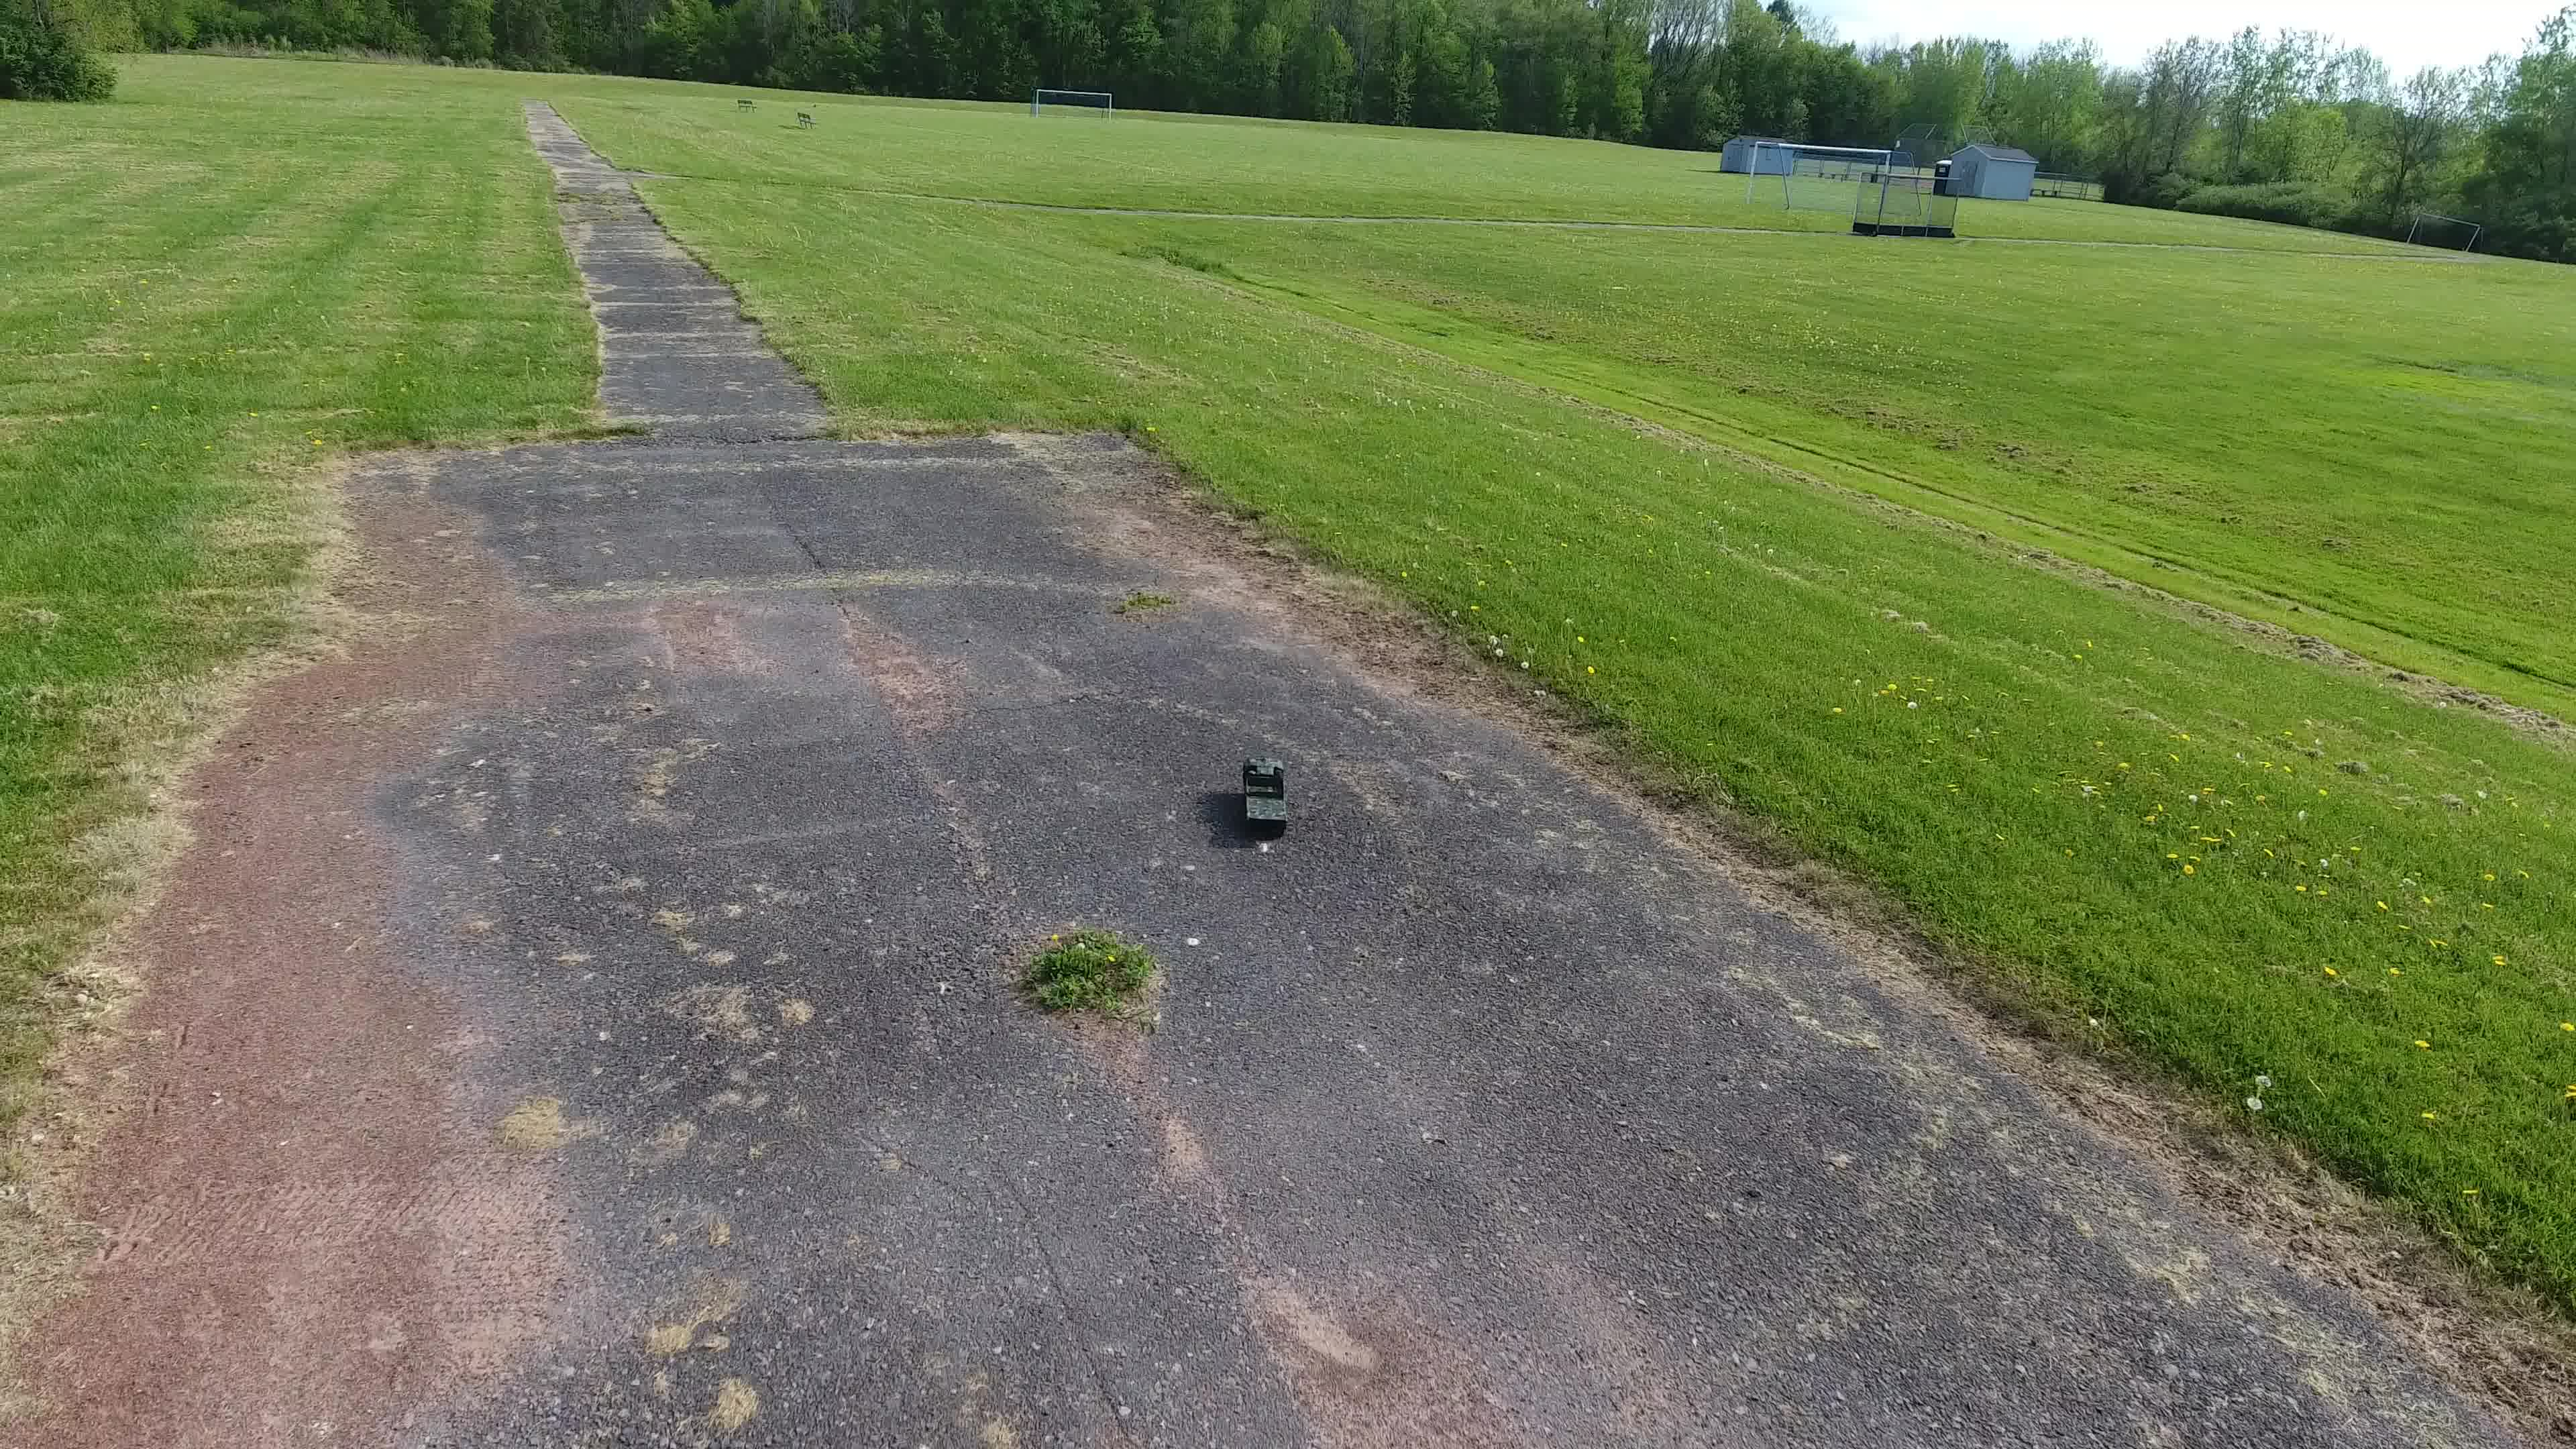transporter9: (1240, 754, 1292, 832)
